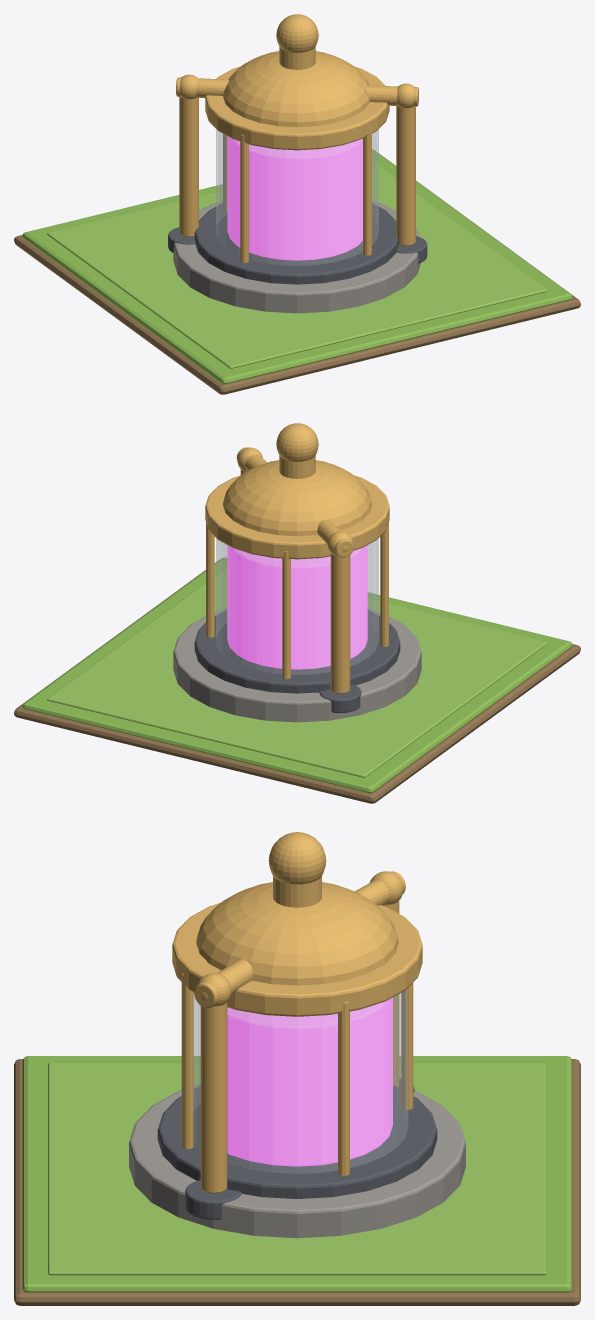
Rendered from elixir_collector_lv1.glb.
The picture shows the model from 3 angles, top to bottom: view 1: azimuth 30°, elevation 25°; view 2: azimuth 150°, elevation 25°; view 3: azimuth 270°, elevation 25°; orthographic projection. The views are drawn at different scales.
Parts seen in each view (by area): view 1: Base_Inner, GlassCylinder, ElixirLiquid, Base_Grass, BrassDome, WellBase, Base_Dirt, WellIronRing, TopRim, PipeDown_0, PipeDown_1, TopFinial (+5 smaller); view 2: Base_Inner, GlassCylinder, Base_Grass, ElixirLiquid, WellBase, BrassDome, Base_Dirt, WellIronRing, TopRim, PipeDown_1, TopFinial, TieRod_1 (+5 smaller); view 3: Base_Inner, GlassCylinder, Base_Grass, ElixirLiquid, WellBase, BrassDome, Base_Dirt, WellIronRing, TopRim, PipeDown_0, TopFinial, TieRod_3 (+8 smaller).
Part boxes in pixels (x1,y1,x2,y2): Base_Inner: [47, 161, 547, 368]; GlassCylinder: [216, 129, 378, 265]; ElixirLiquid: [227, 136, 362, 260]; Base_Grass: [22, 149, 572, 383]; BrassDome: [223, 51, 369, 127]; WellBase: [173, 201, 420, 313]; Base_Dirt: [14, 151, 580, 394]; WellIronRing: [194, 203, 398, 284]; TopRim: [205, 66, 389, 150]; PipeDown_0: [396, 106, 415, 245]; PipeDown_1: [179, 97, 198, 237]; TopFinial: [276, 14, 318, 52]; Base_Inner: [47, 567, 547, 777]; GlassCylinder: [216, 538, 378, 674]; Base_Grass: [22, 557, 572, 792]; ElixirLiquid: [227, 545, 367, 669]; WellBase: [173, 608, 421, 722]; BrassDome: [223, 460, 371, 536]; Base_Dirt: [14, 560, 580, 803]; WellIronRing: [194, 610, 400, 693]; TopRim: [205, 475, 389, 559]; PipeDown_1: [330, 553, 350, 693]; TopFinial: [276, 423, 318, 461]; TieRod_1: [282, 551, 290, 679]; Base_Inner: [48, 1062, 546, 1275]; GlassCylinder: [193, 988, 408, 1173]; Base_Grass: [22, 1056, 572, 1292]; ElixirLiquid: [227, 997, 392, 1166]; WellBase: [129, 1084, 465, 1238]; BrassDome: [196, 882, 398, 985]; Base_Dirt: [14, 1059, 580, 1305]; WellIronRing: [157, 1085, 437, 1198]; TopRim: [172, 902, 422, 1016]; PipeDown_0: [200, 1002, 227, 1193]; TopFinial: [268, 832, 326, 884]; TieRod_3: [181, 973, 193, 1148].
Bounding box in the file's own units: 2.76 × 1.9 × 2.76.
